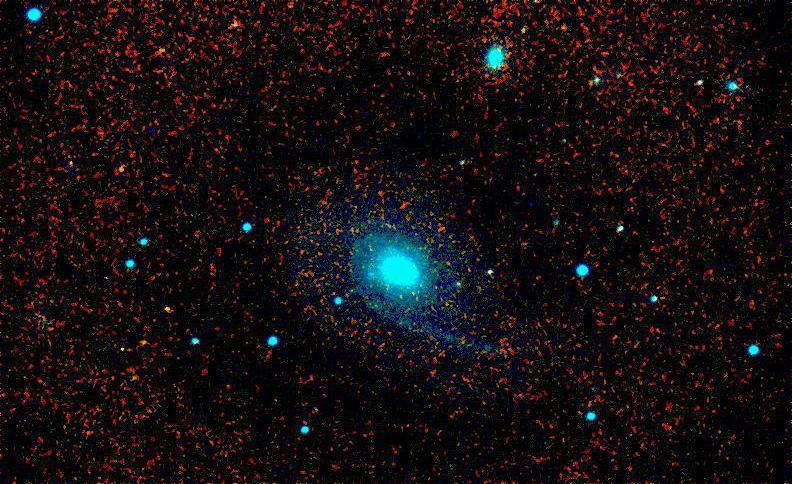star: (158, 293, 188, 323)
